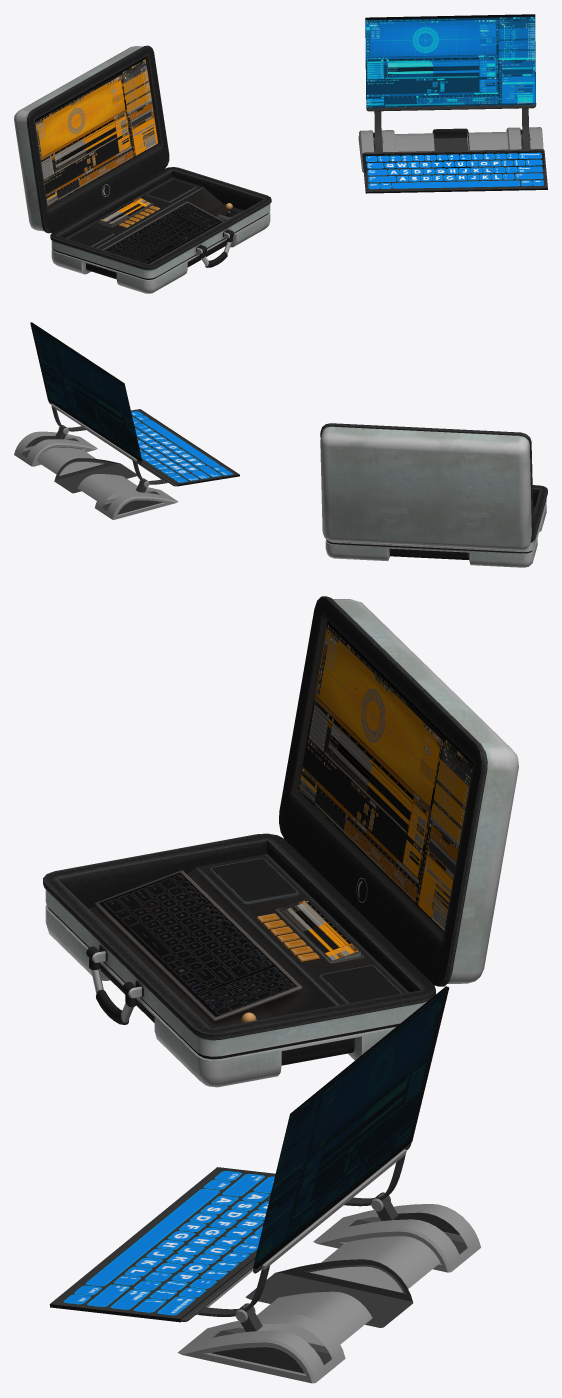
Rendered from barrel_3_4_export_2.fbx.
3 views of the same model, one above another, from view 1: azimuth 30°, elevation 25°; view 2: azimuth 150°, elevation 25°; view 3: azimuth 270°, elevation 25° (orthographic). The views are drawn at different scales.
Parts seen in each view (by area): view 1: computer_2, computer_1; view 2: computer_2, computer_1; view 3: computer_2, computer_1.
Boxes of the visible parts, <box> form: computer_2: <box>14,45,271,293</box>; computer_1: <box>358,14,547,193</box>; computer_2: <box>320,423,547,567</box>; computer_1: <box>14,322,239,519</box>; computer_2: <box>43,596,518,1087</box>; computer_1: <box>49,986,480,1383</box>.
Size of the model in its own units: 1476 by 401 by 589.
